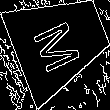M_NE: (31, 11, 89, 73)
